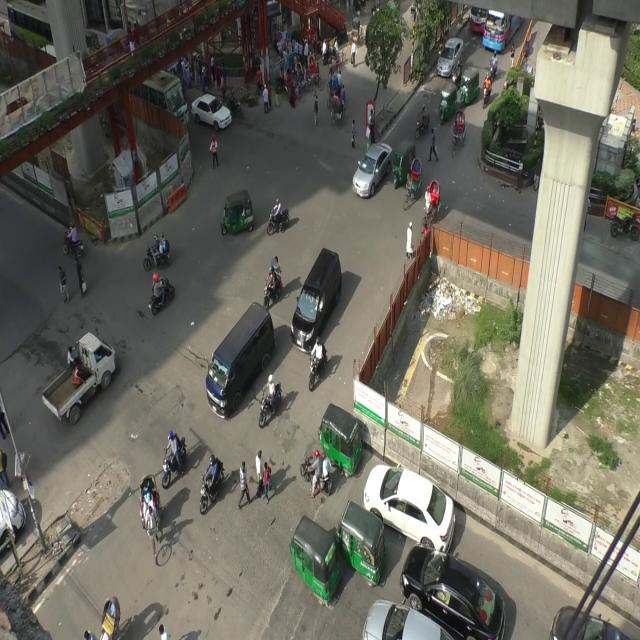cng: (286, 511, 340, 598), (334, 506, 394, 577), (319, 399, 362, 480), (220, 190, 255, 238), (392, 140, 416, 186), (459, 65, 483, 108), (436, 79, 458, 123)
rikshaw: (133, 470, 166, 557), (402, 158, 424, 210), (420, 182, 443, 227), (449, 110, 468, 156), (285, 68, 305, 103), (308, 53, 326, 91), (294, 63, 316, 92), (332, 89, 349, 121), (351, 15, 365, 48), (327, 74, 342, 102)
